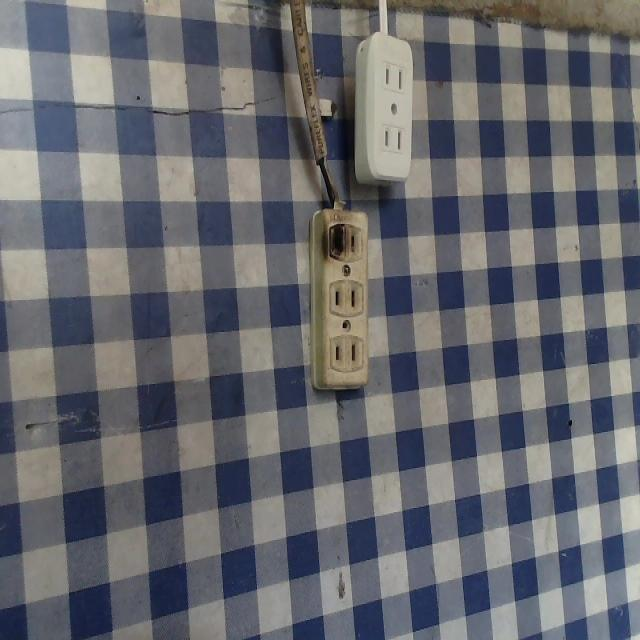-: (323, 217, 349, 264)
